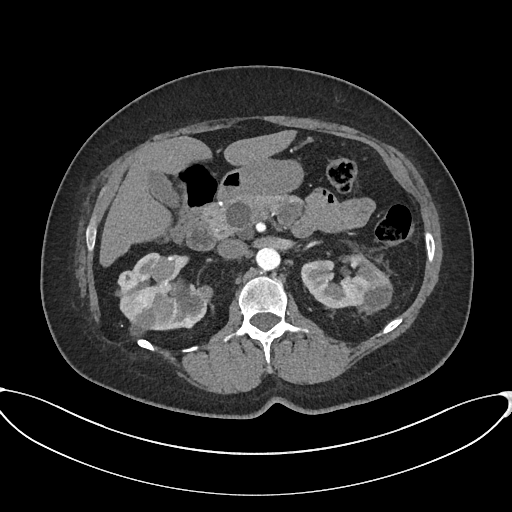Lesion: (116, 270, 140, 294)
